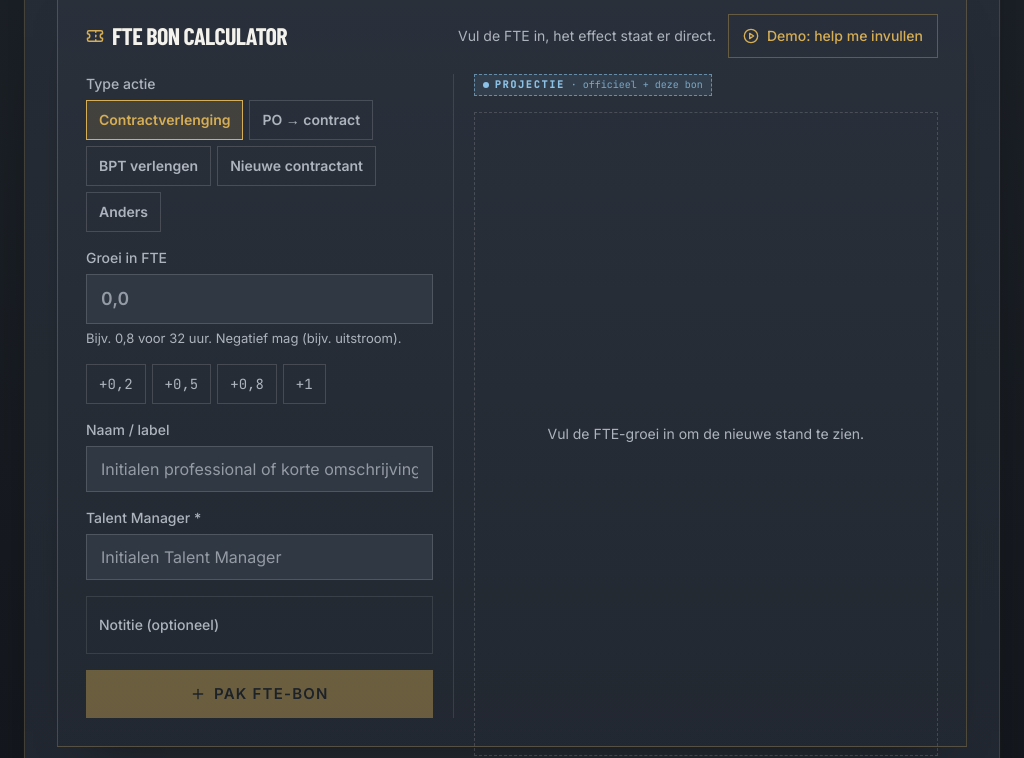
Test: NetFtePage › a quick-pick button fills the FTE in one tap
(page scrolled)
Click the button "+0,5": (181, 384) [152,364,211,404]
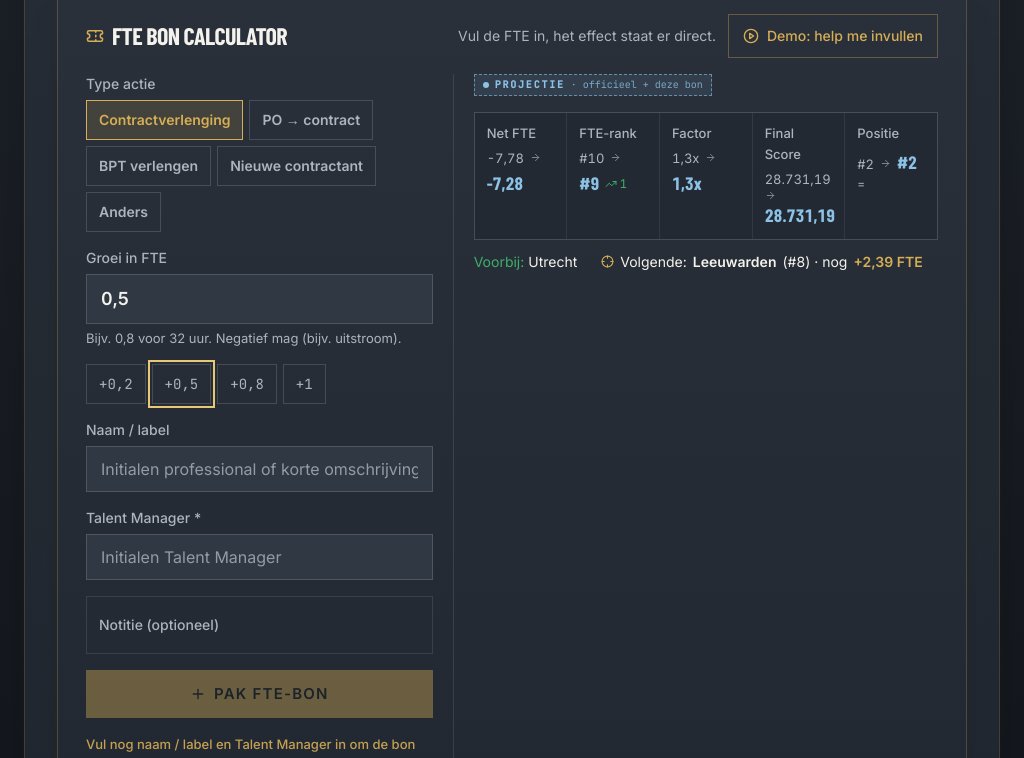
Result: the field labelled "Groei in FTE" holds "0,5" at [86,274,433,324]
